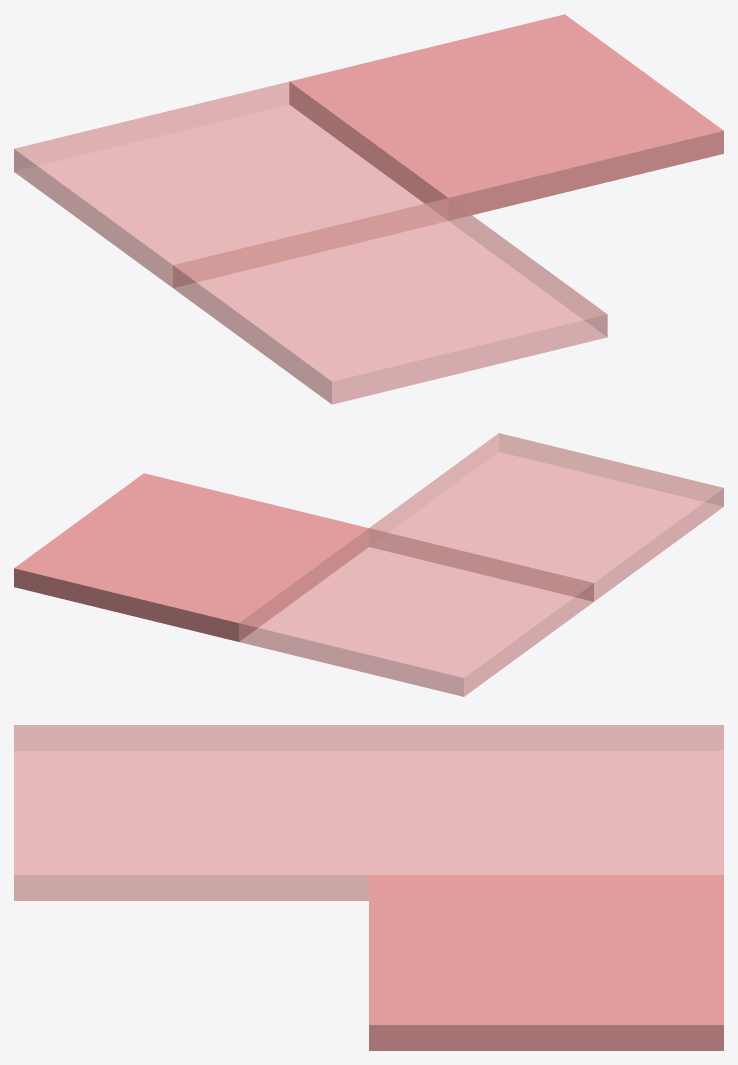
Rendered from cubo_3d_step4.glb.
3 views of the same model, one above another, from view 1: azimuth 30°, elevation 25°; view 2: azimuth 150°, elevation 25°; view 3: azimuth 270°, elevation 25° (orthographic). The views are drawn at different scales.
Parts seen in each view (by area): view 1: quadrato_grande, quadrato_grande.001, quadrato_grande.002; view 2: quadrato_grande.002, quadrato_grande.001, quadrato_grande; view 3: quadrato_grande, quadrato_grande.002, quadrato_grande.001.
Part boxes in pixels (x1,y1,x2,y2): quadrato_grande: [173, 198, 607, 404]; quadrato_grande.001: [14, 81, 447, 287]; quadrato_grande.002: [289, 14, 723, 220]; quadrato_grande.002: [14, 473, 368, 641]; quadrato_grande.001: [239, 528, 593, 696]; quadrato_grande: [369, 433, 723, 601]; quadrato_grande: [14, 725, 368, 900]; quadrato_grande.002: [369, 875, 723, 1050]; quadrato_grande.001: [369, 725, 723, 874].
Size of the model in its own units: 2 by 0.08 by 2.
